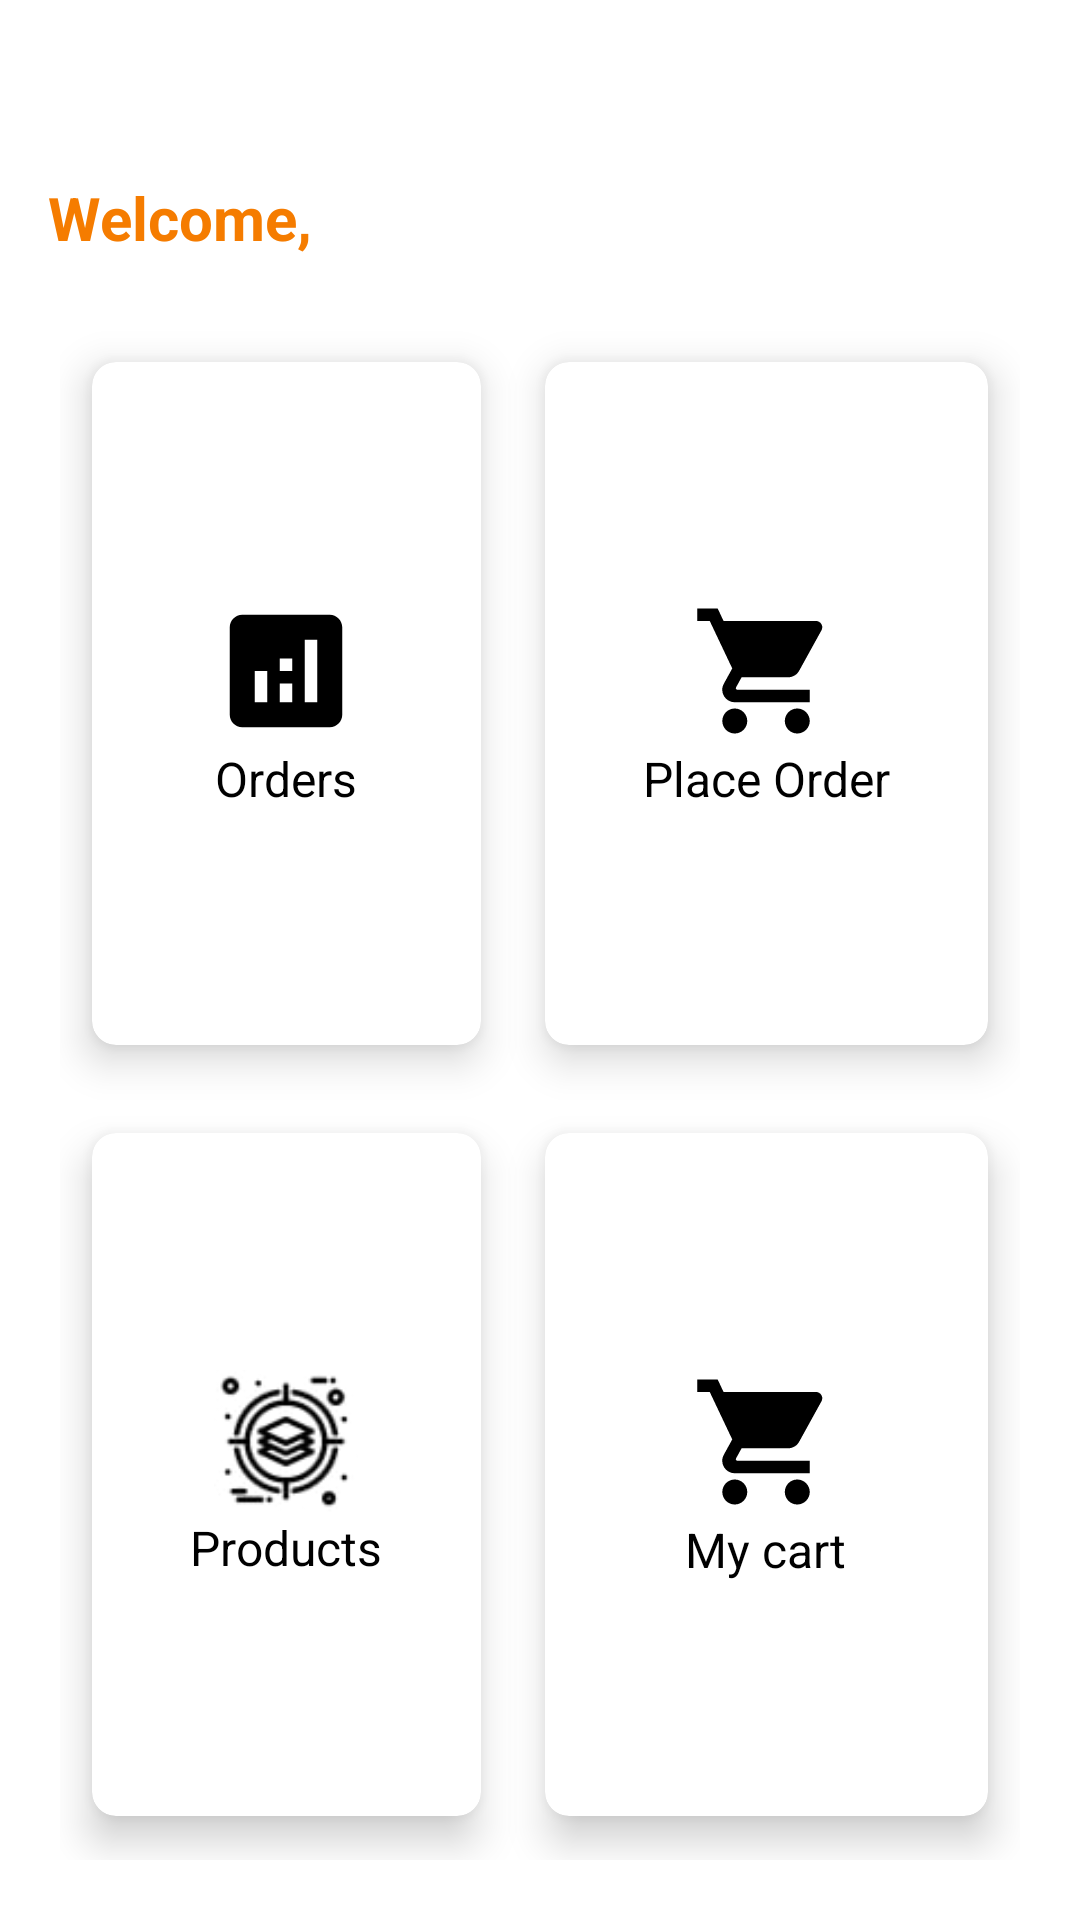

Icon click points for this 1080px x 1920px phone screenshot, format (x=x, y=y):
insights: (x=286, y=671)
